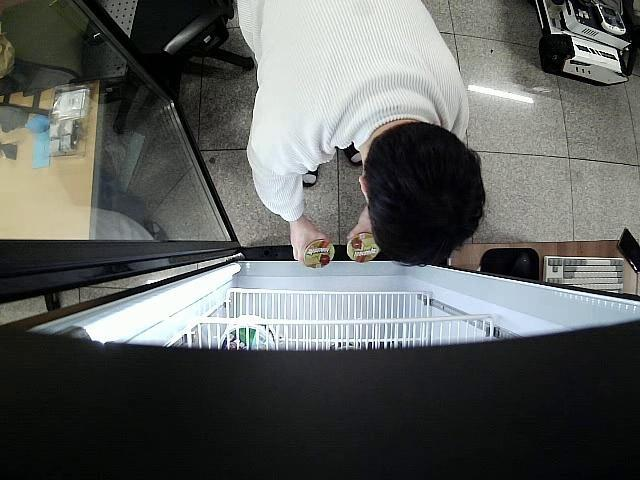04_chapagetti_S: (345, 230, 382, 265), (301, 236, 337, 270)
